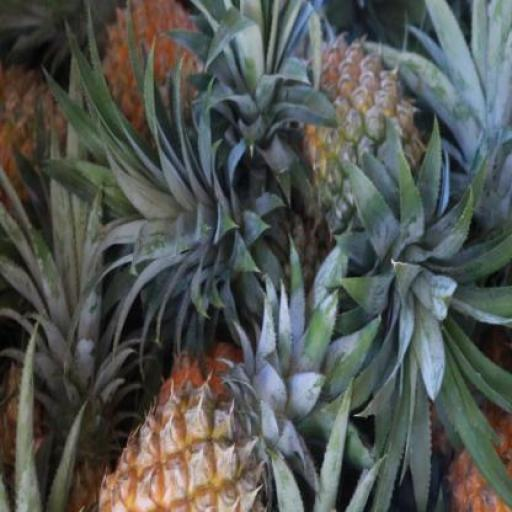------------------------------: (296, 37, 436, 247)
Pineapple - v8 v1: (98, 368, 280, 512)
